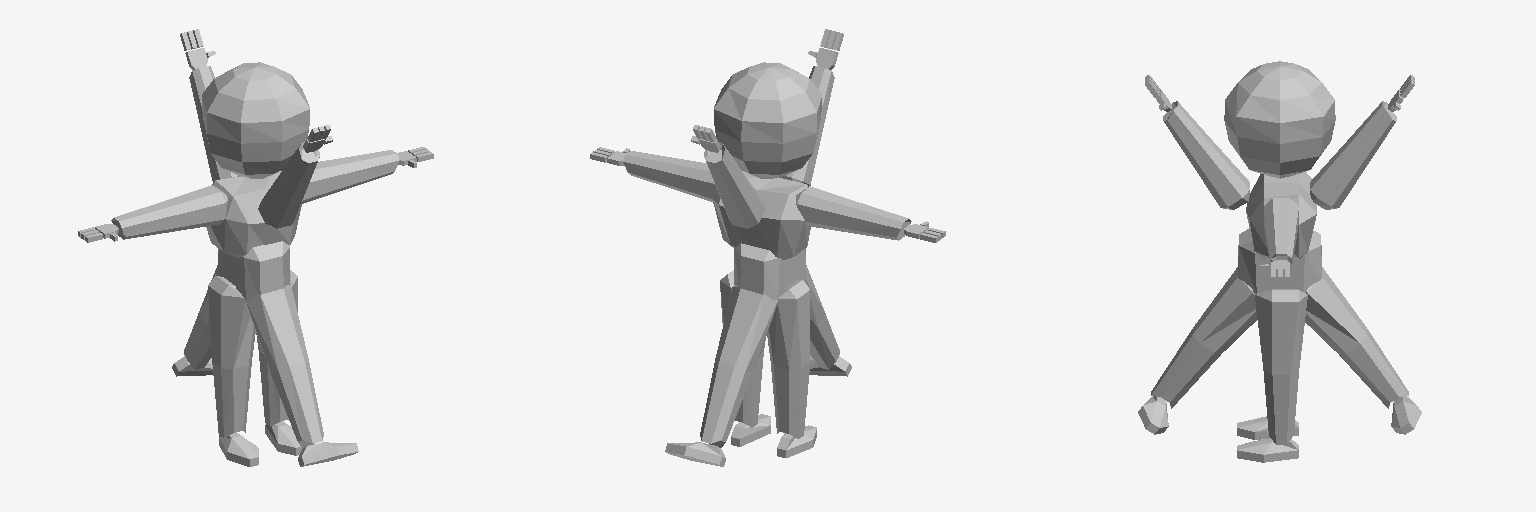
File: InfoPlayerStart.obj
3 renders of one model, left to right at view 1: azimuth 30°, elevation 25°; view 2: azimuth 150°, elevation 25°; view 3: azimuth 270°, elevation 25°, orthographic.
Parts seen in each view (by area): view 1: Android; view 2: Android; view 3: Android.
Boxes of the visible parts, x1,y1,x2,y2 form: Android: [78, 29, 433, 466]; Android: [590, 29, 945, 466]; Android: [1138, 61, 1421, 462].
Bounding box in the file's own units: 2.24 × 2.33 × 1.6.